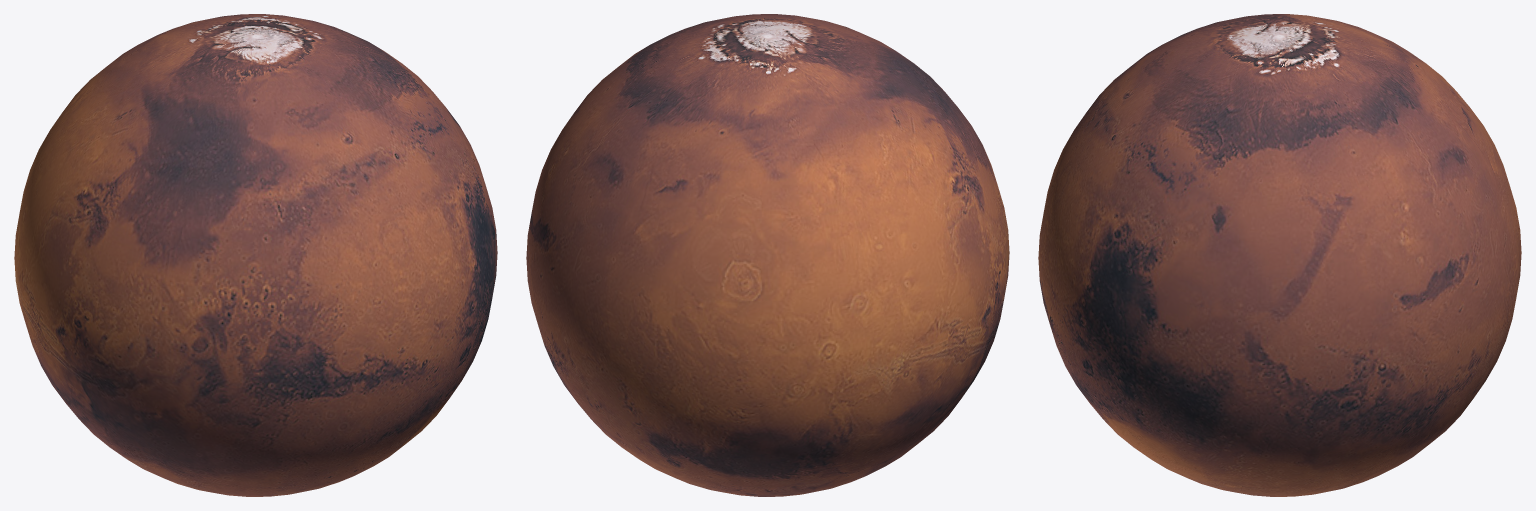
File: mars.obj
3 renders of one model, left to right at view 1: azimuth 30°, elevation 25°; view 2: azimuth 150°, elevation 25°; view 3: azimuth 270°, elevation 25°, orthographic.
Visible parts, largest first — view 1: pSphere1; view 2: pSphere1; view 3: pSphere1.
Boxes of the visible parts, x1,y1,x2,y2 form: pSphere1: (14,14,497,496); pSphere1: (526,14,1009,496); pSphere1: (1038,14,1521,496).
Bounding box in the file's own units: 1.99 × 2 × 2.
1 material, 1 textured.
